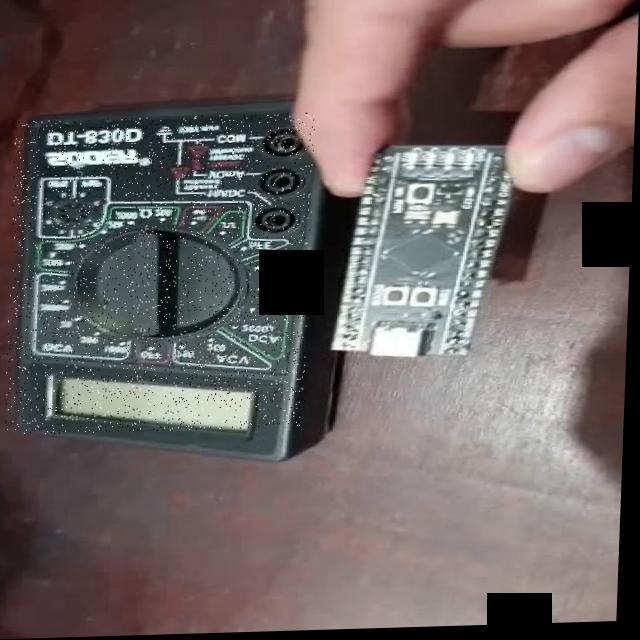multimeter: (8, 115, 316, 436)
stm32: (334, 148, 510, 364)
